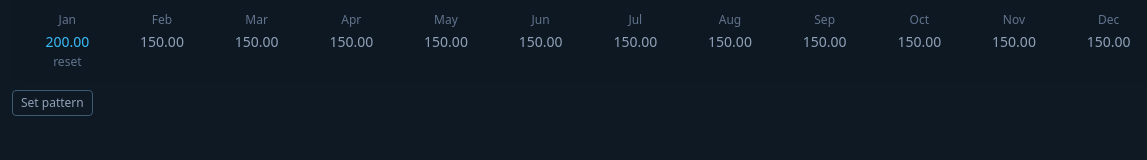
Scenario: BudgetOverrideForm › auto-selects input text on focus
# Click Jan to start editing
What coordinates should you click on to do the following:
click the button named "edit override for jan"
I would click on:
 (67, 42)
Its box is x1=24 y1=32 x2=111 y2=52.
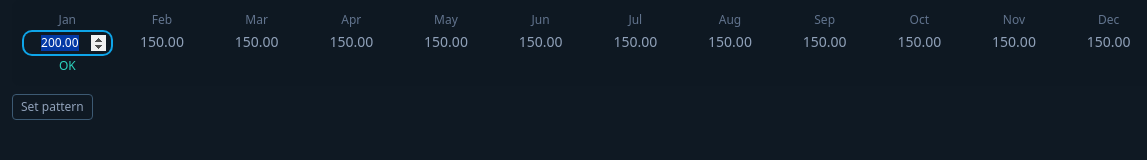
Check: the number field named "override amount for jan" holds "200.00", box x1=24 y1=32 x2=111 y2=54
